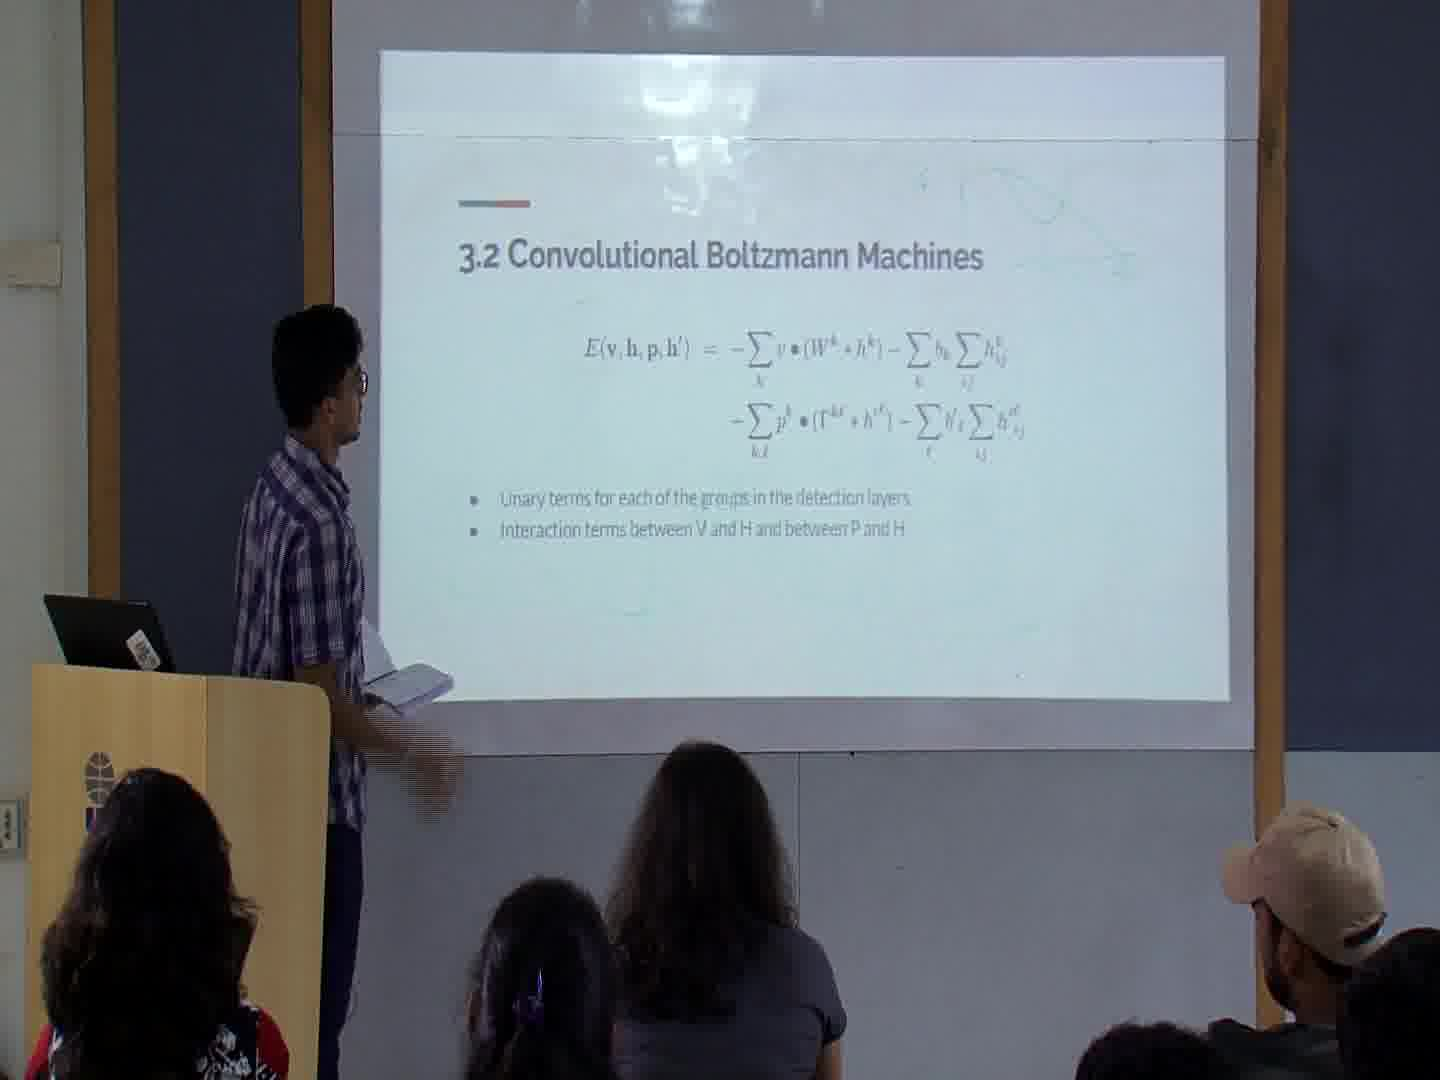eq: (581, 321, 1013, 393), (728, 398, 1035, 466)
